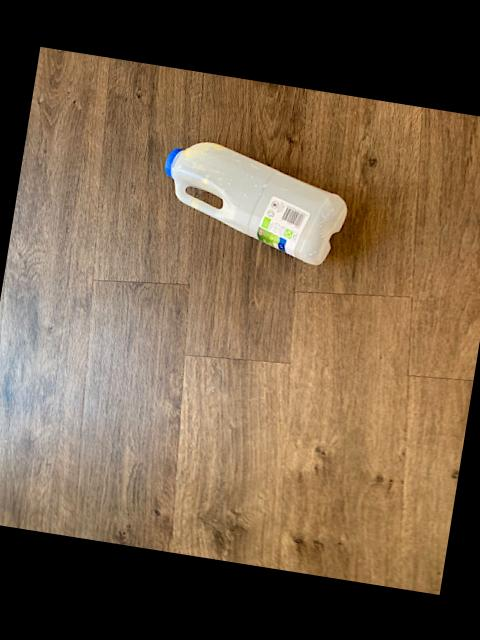plastic: (164, 143, 345, 265)
